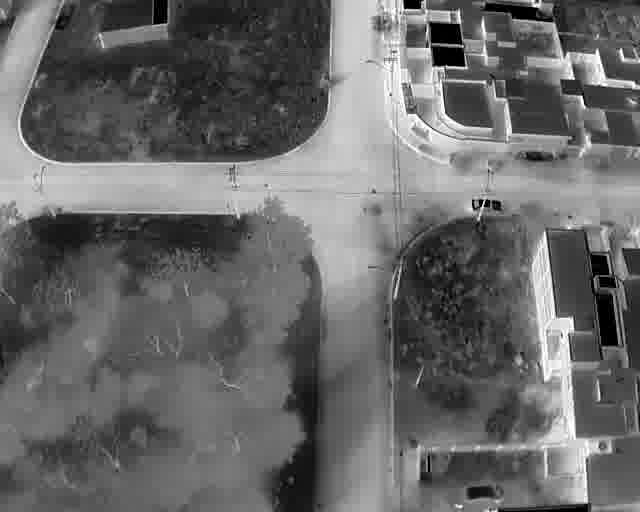car: (463, 484, 504, 502), (471, 197, 503, 213)
